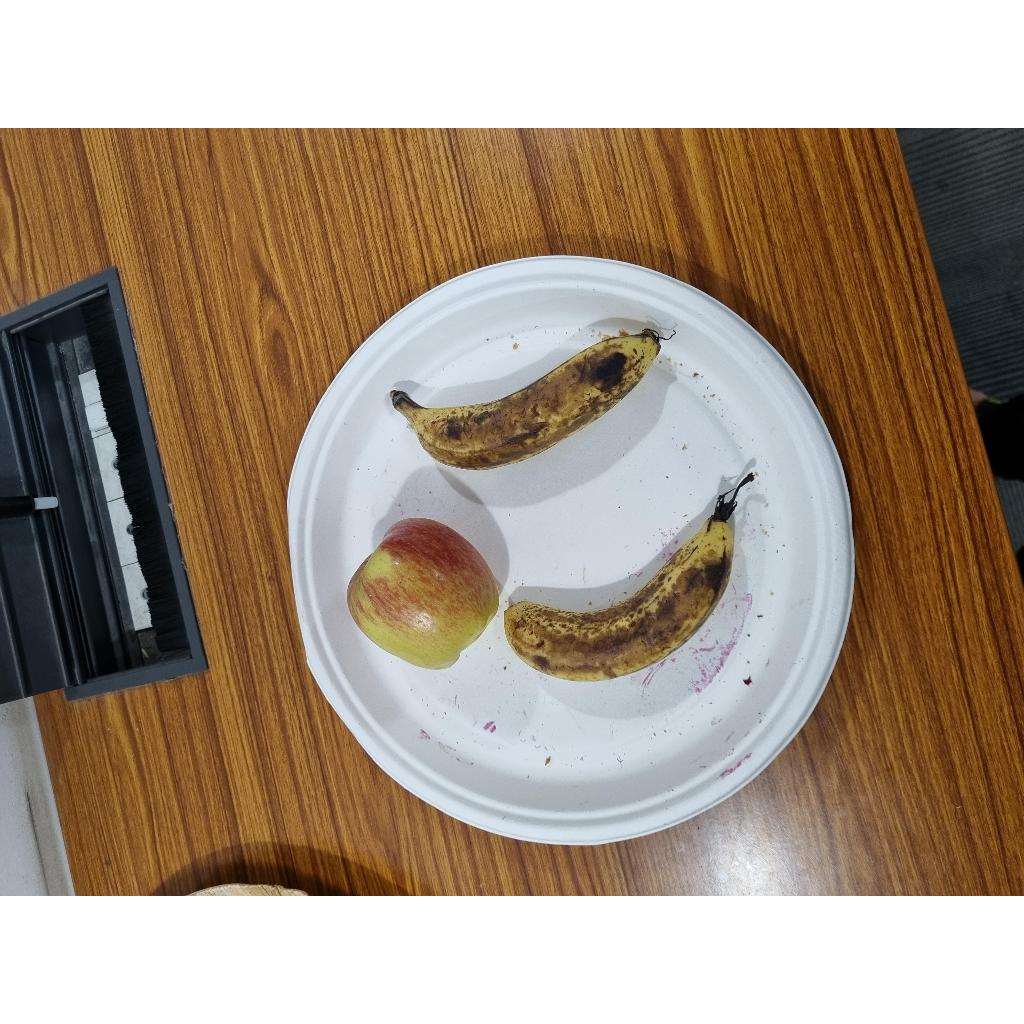apple: (352, 513, 507, 669)
banana: (505, 497, 733, 681), (390, 328, 675, 470)
